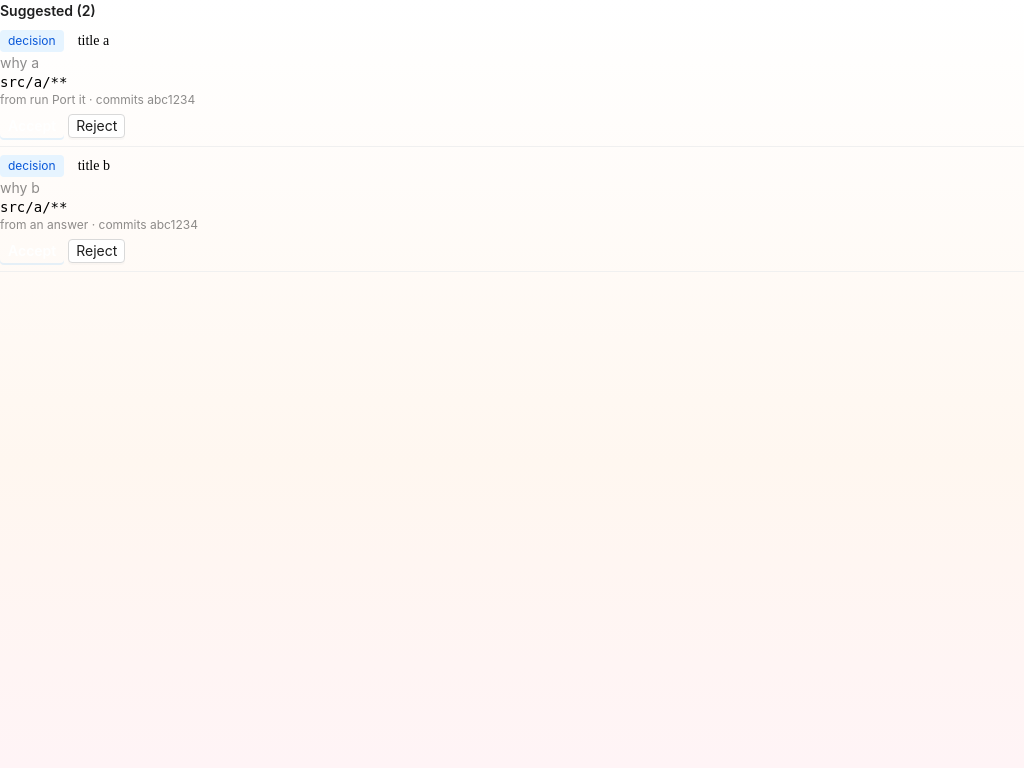
Test case: ProposalsQueue › Accept opens a pre-filled form; Save sends the edited body
Later steps or results of the test are not shown.
Click the button "Accept" below "from run Port it" at point(32, 126), box [0,114,64,138]
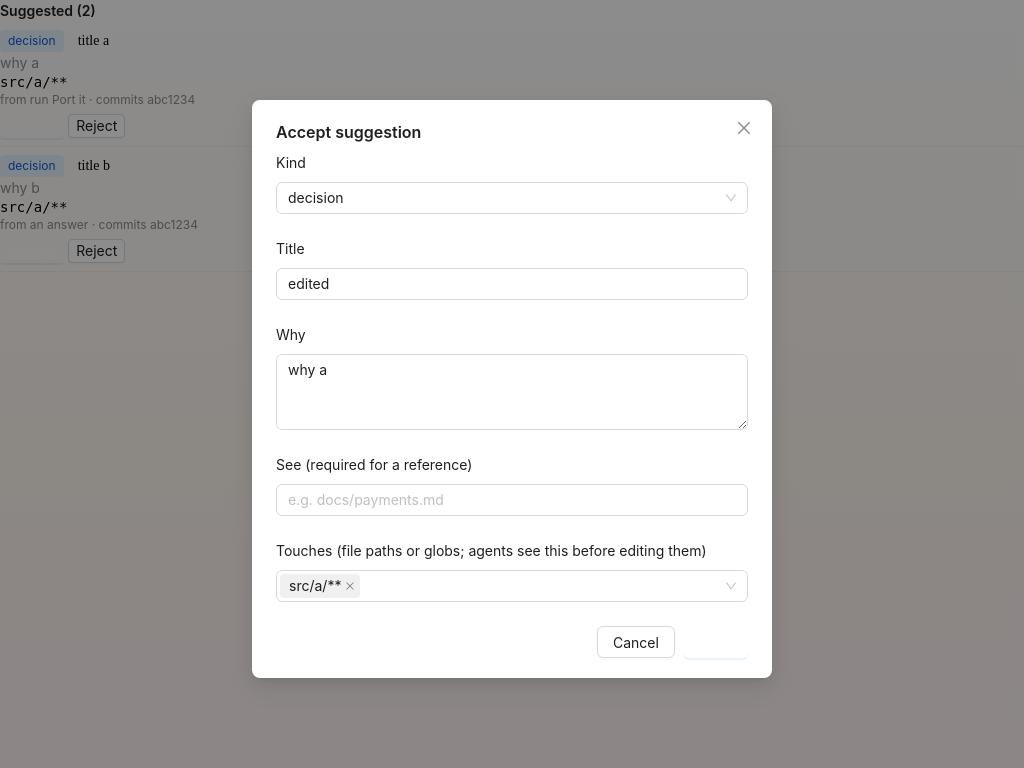
Expected: the text "Accept suggestion" is shown, [276,122,421,142]
